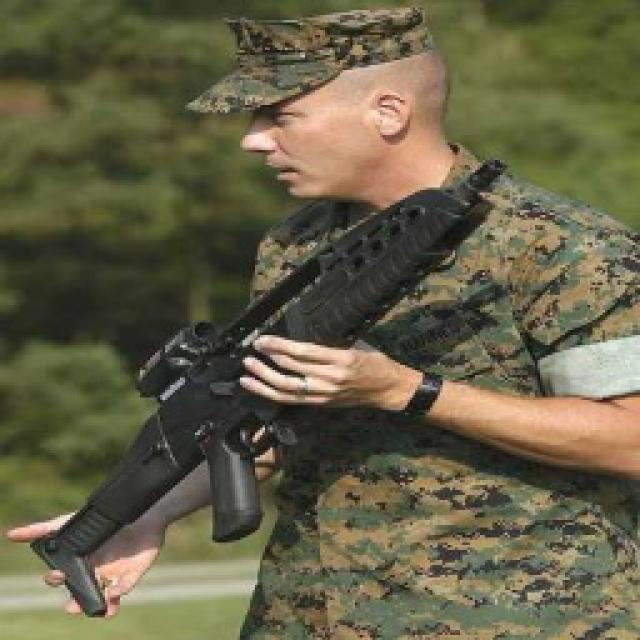long weapon: (6, 149, 522, 623)
